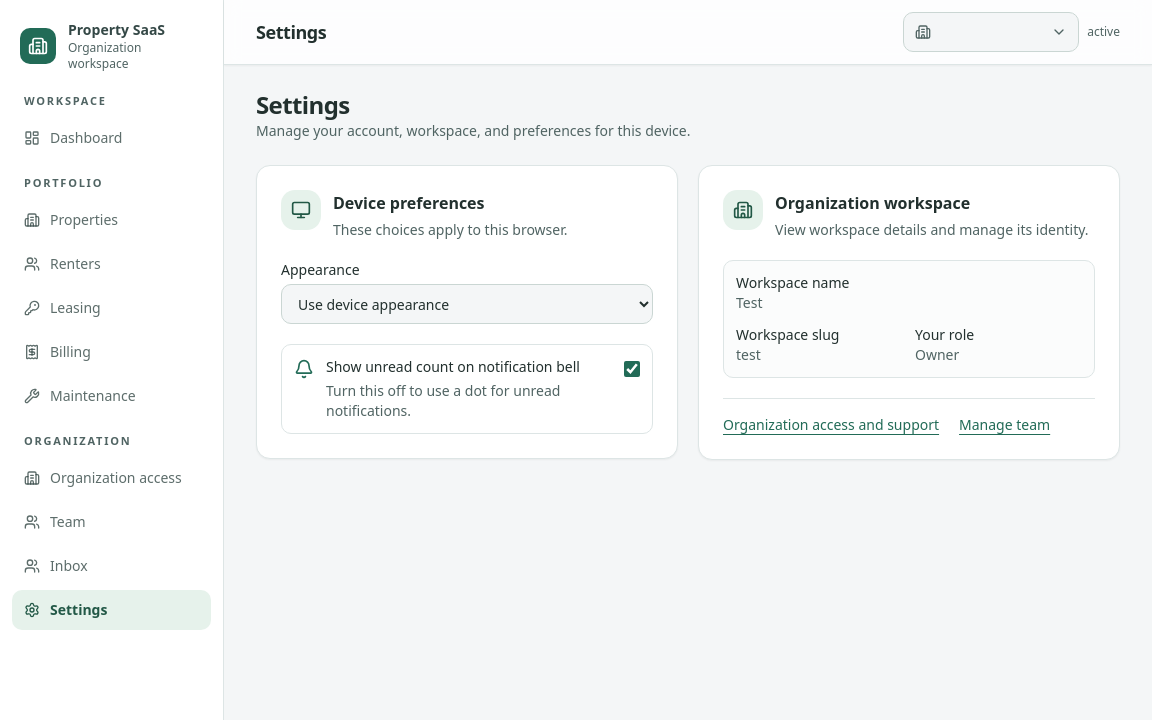
Test case: navigates to Properties and marks only that destination active
Click the link "Properties" at [71, 219], box [24,210,118,229]
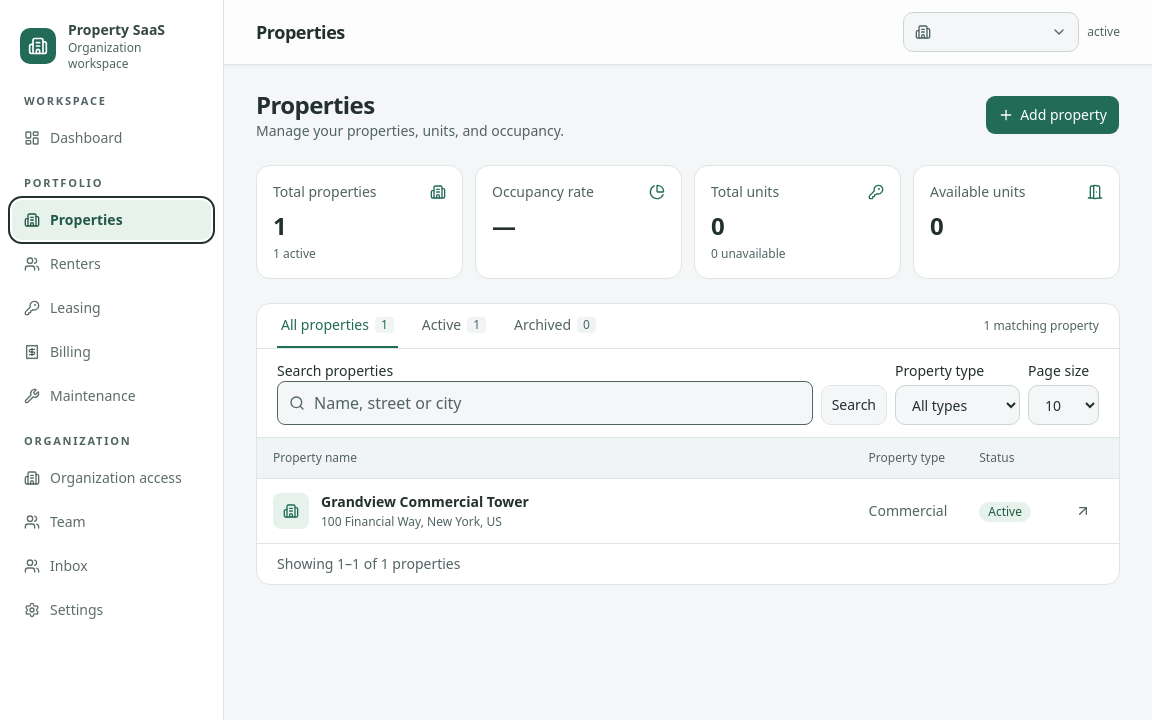
expect the heading "Properties" in the row of "Add property" is shown: met, box [256,88,374,121]
expect the 1st heading "Properties" is shown: met, box [256,18,345,46]
